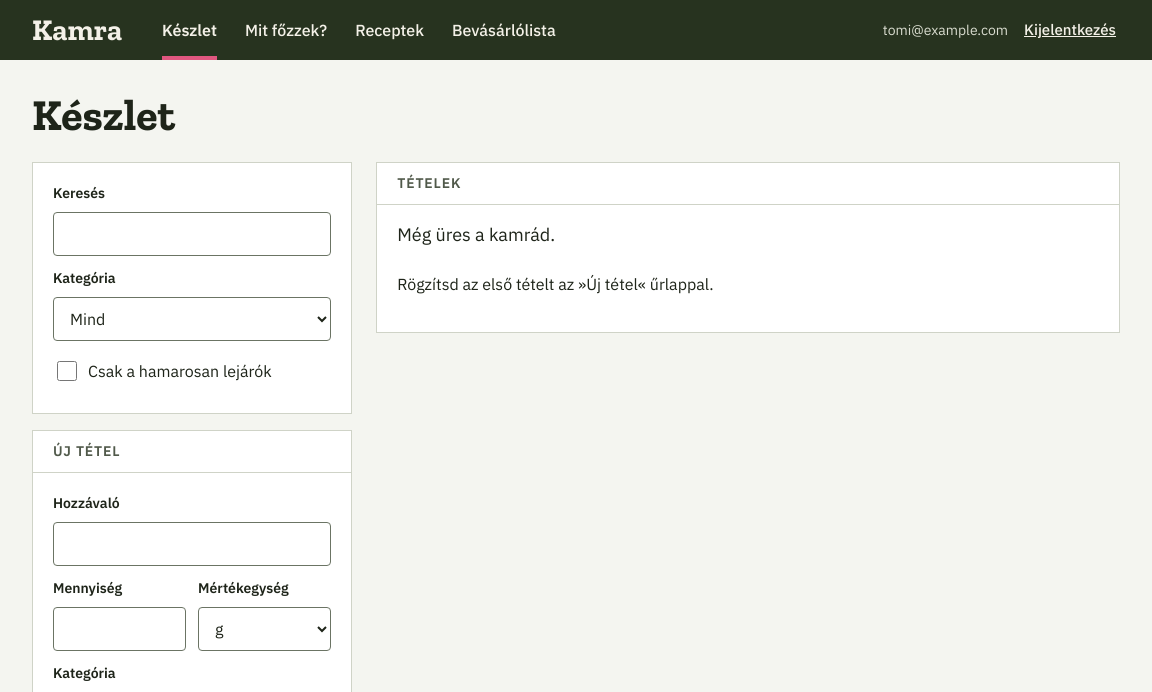
Test: pantry list › shows the empty pantry and the empty filter result
Expected: the text "Még üres a kamrád." is shown, [397,223,555,246]
Expected: the text "Rögzítsd az első tételt az »Új tétel« űrlappal." is shown, [397,274,714,294]
Type "xyz" into the search field labelled "Keresés" at (192, 234), box [53,212,331,256]
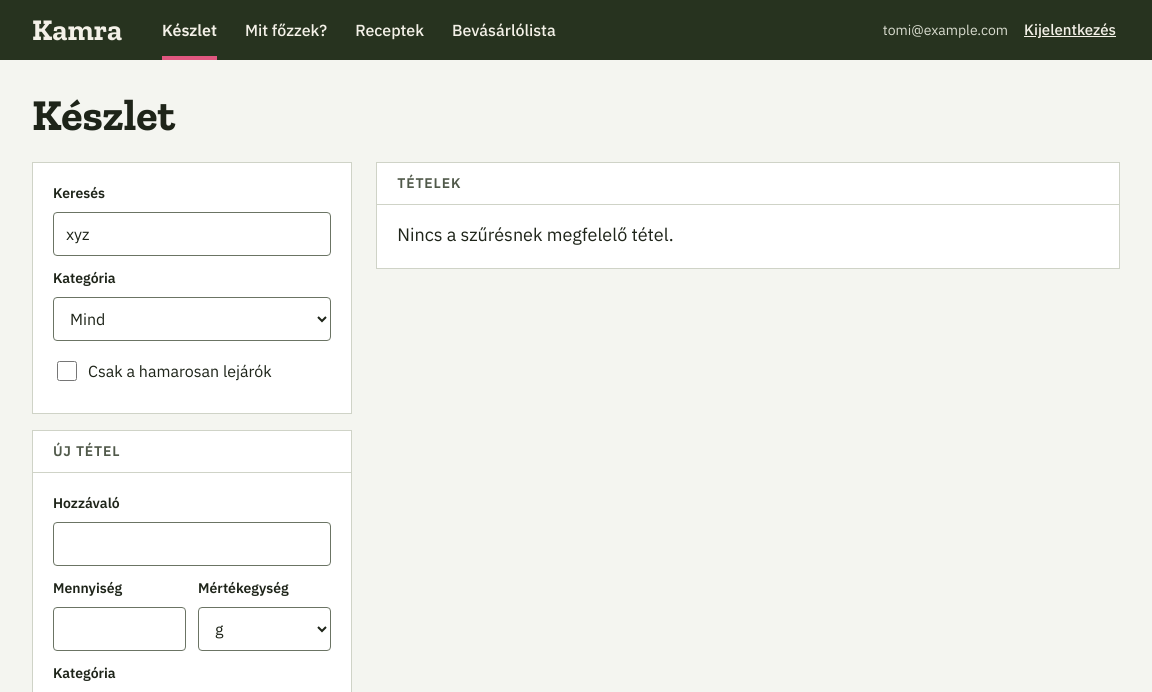
Now the text "Nincs a szűrésnek megfelelő tétel." is shown, box [397,223,674,246]
